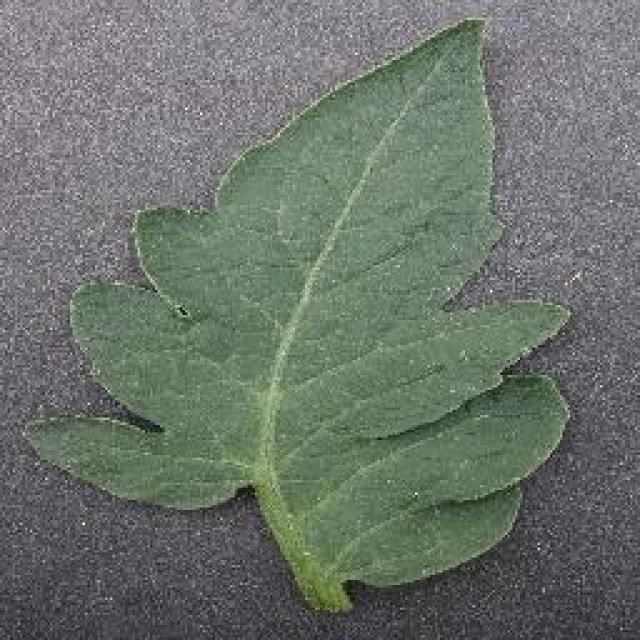Tomato_Healthy: (19, 18, 584, 579)
